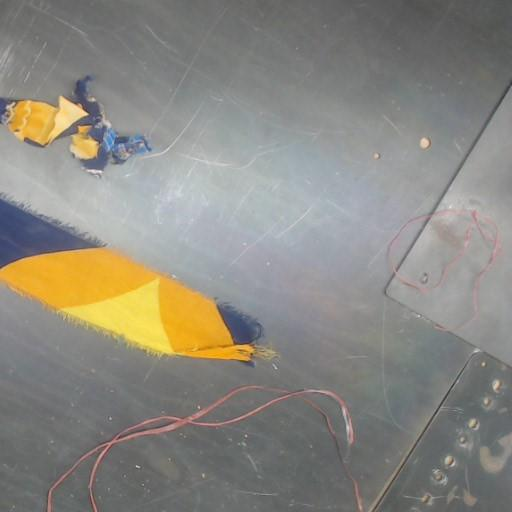cloth: (0, 197, 261, 362), (0, 76, 151, 174), (0, 77, 106, 163)
conveyor belt: (0, 0, 511, 511), (97, 401, 350, 511)
thread: (46, 385, 353, 511), (385, 208, 501, 332), (305, 400, 363, 511)
